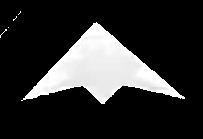Plane: (13, 18, 195, 117)
